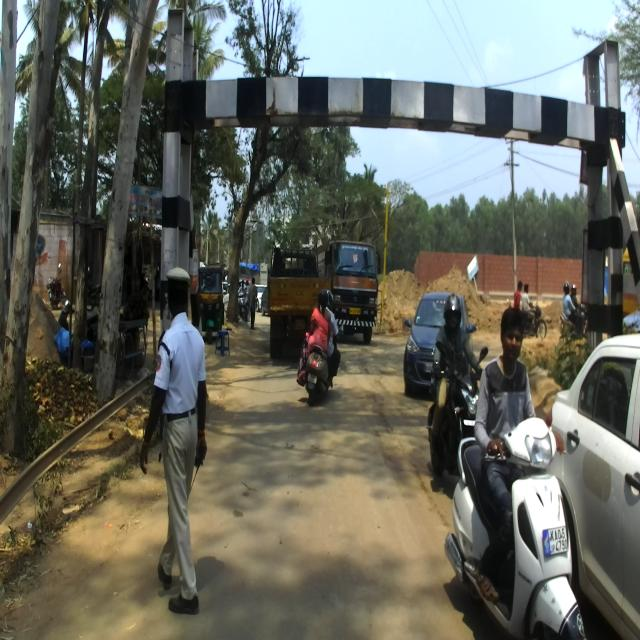motorcycle ahead at: (450, 423, 586, 640)
person ahead at: (138, 254, 217, 616)
